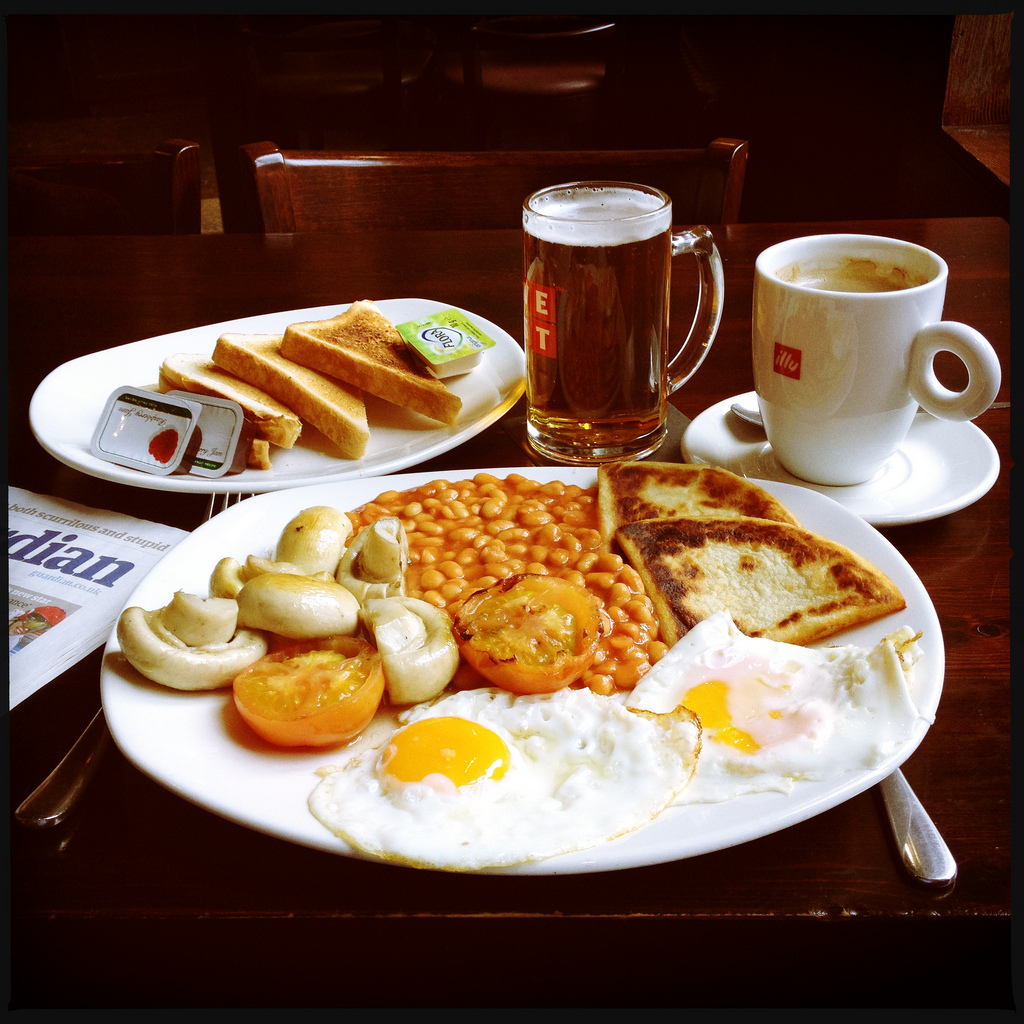fried egg: (315, 681, 674, 861), (636, 630, 910, 770)
slice of bread: (283, 299, 452, 407), (157, 337, 303, 448), (225, 318, 358, 438)
